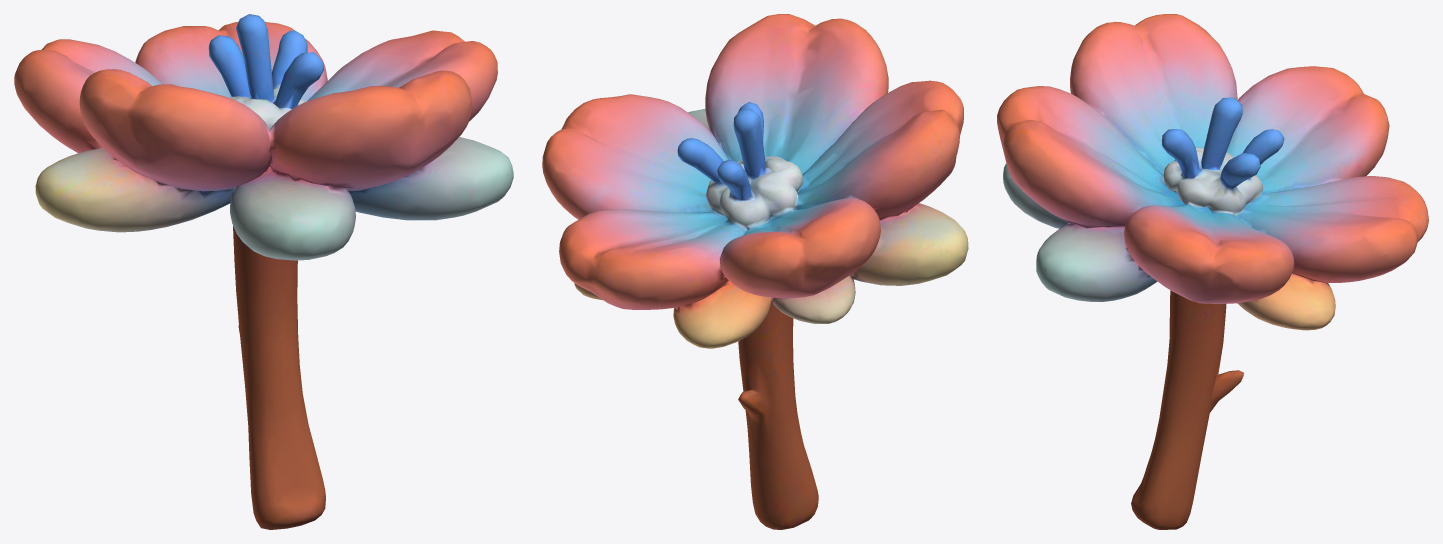
Rendered from flor.glb.
The picture shows the model from 3 angles, left to right: view 1: azimuth 30°, elevation 25°; view 2: azimuth 150°, elevation 25°; view 3: azimuth 270°, elevation 25°; orthographic projection. The views are drawn at different scales.
Parts seen in each view (by area): view 1: tripo_node_7d42b11b-f19b-49da-98fa-f6c5e01111d2; view 2: tripo_node_7d42b11b-f19b-49da-98fa-f6c5e01111d2; view 3: tripo_node_7d42b11b-f19b-49da-98fa-f6c5e01111d2.
Boxes of the visible parts, x1,y1,x2,y2 form: tripo_node_7d42b11b-f19b-49da-98fa-f6c5e01111d2: (14,14,513,529); tripo_node_7d42b11b-f19b-49da-98fa-f6c5e01111d2: (542,14,968,529); tripo_node_7d42b11b-f19b-49da-98fa-f6c5e01111d2: (997,14,1428,529).
Size of the model in its own units: 0.9398 by 1 by 0.8934.
1 material, 1 textured.
